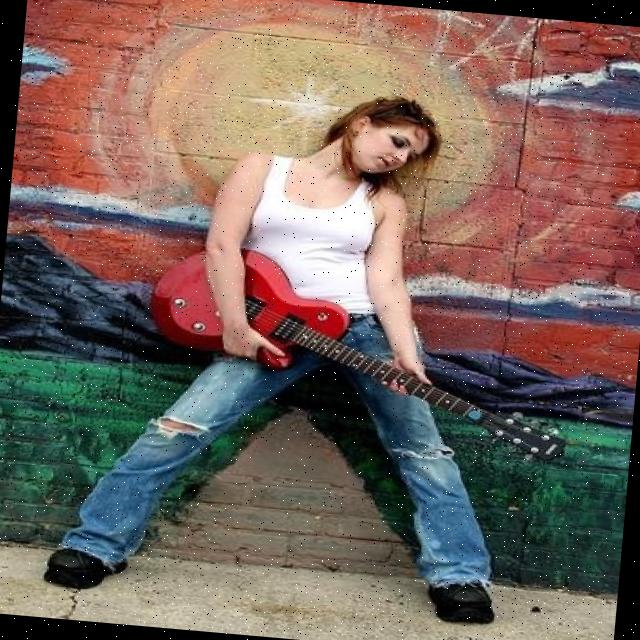guitar: (127, 235, 586, 464)
